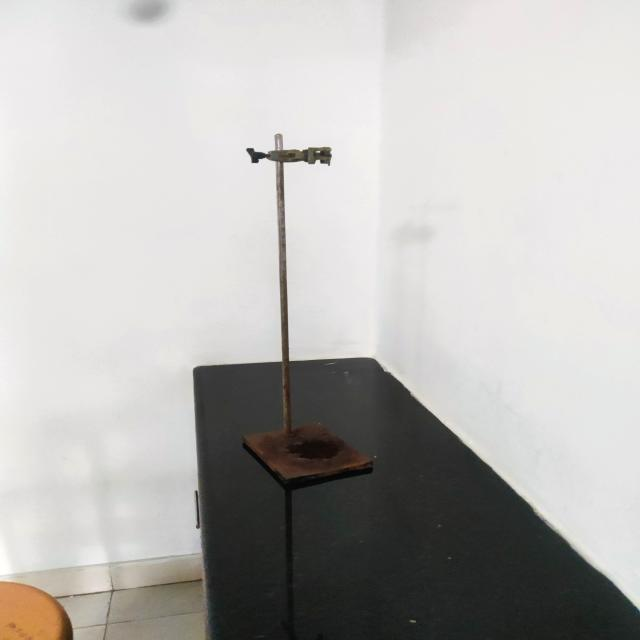Burette_Stands: (175, 91, 392, 525)
